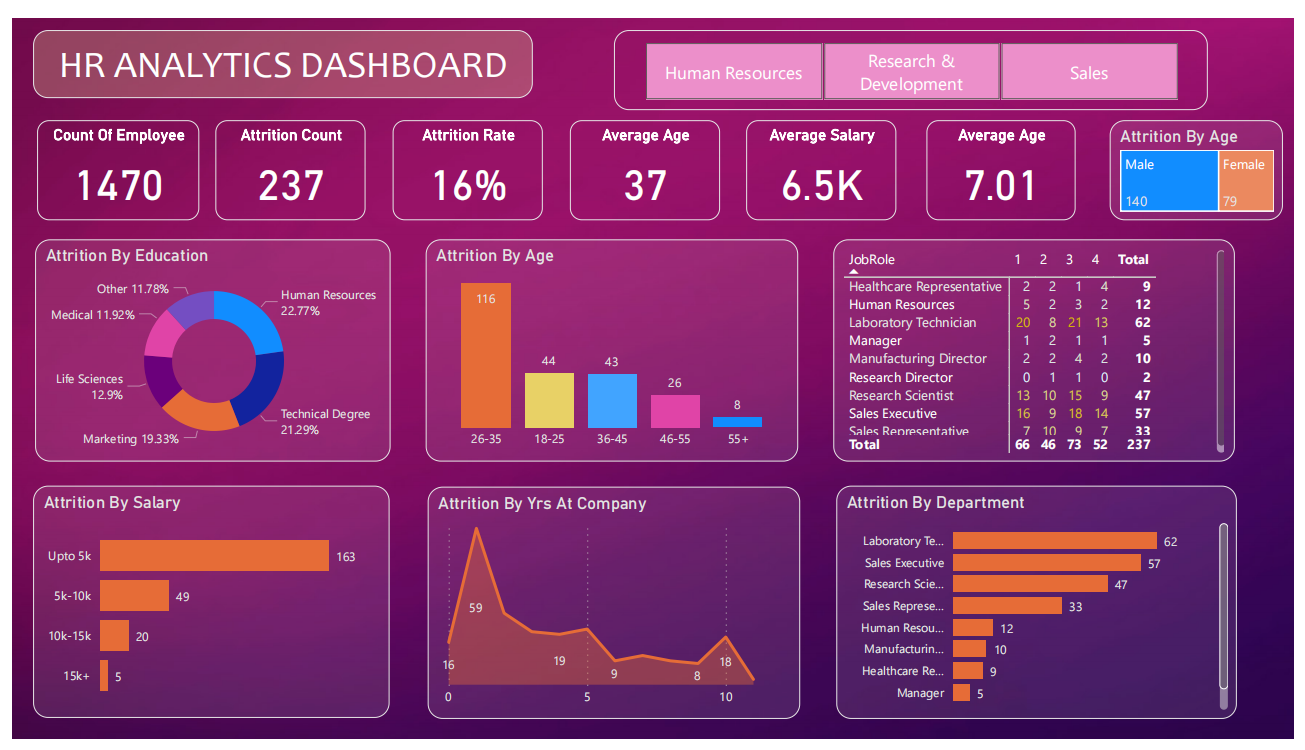

This screenshot's page, from the dashboard's own definition file:
{"tool":"powerbi","page":{"name":"HR DASHBOARD","canvas":[1280,720],"ordinal":0},"visuals":[{"type":"card","title":"Count Of Employee","fields":{"Values":["CountNonNull(HR_Analytics.EmpID)"]},"box":[25,101.5,161.9,100.2],"z":0},{"type":"card","title":"Attrition Count","fields":{"Values":["Sum(HR_Analytics.Attrition Count)"]},"box":[203.4,101.5,149.6,100.2],"z":1},{"type":"card","title":"Attrition Rate","fields":{"Values":["HR_Analytics.Attrition Rate"]},"box":[380.4,101.5,149.6,100.2],"z":2},{"type":"card","title":"Average Age","fields":{"Values":["Avg(HR_Analytics.Age)"]},"box":[557.4,101.5,149.6,100.2],"z":3},{"type":"card","title":"Average Salary","fields":{"Values":["Avg(HR_Analytics.MonthlyIncome)"]},"box":[733,101.5,149.6,100.2],"z":4},{"type":"card","title":"Average Age","fields":{"Values":["Avg(HR_Analytics.YearsAtCompany)"]},"box":[912.8,101.5,149.6,100.2],"z":5},{"type":"donutChart","title":"Attrition By Education","fields":{"Y":["HR_Analytics.Attrition Rate"],"Category":["HR_Analytics.EducationField"]},"box":[23.1,220.9,355.4,222.3],"z":6},{"type":"columnChart","title":"Attrition By Age","fields":{"Category":["HR_Analytics.AgeGroup"],"Y":["Sum(HR_Analytics.Attrition Count)"]},"box":[412.8,220.9,371.9,222.3],"z":7},{"type":"pivotTable","fields":{"Rows":["HR_Analytics.JobRole"],"Columns":["HR_Analytics.JobSatisfaction"],"Values":["Sum(HR_Analytics.Attrition Count)"]},"box":[820.3,220.9,400.7,222.3],"z":8},{"type":"barChart","title":"Attrition By Salary","fields":{"Category":["HR_Analytics.SalarySlab"],"Y":["Sum(HR_Analytics.Attrition Count)"]},"box":[21.1,466.8,355.4,231.9],"z":9},{"type":"barChart","title":"Attrition By Department","fields":{"Y":["Sum(HR_Analytics.Attrition Count)"],"Category":["HR_Analytics.JobRole"]},"box":[822.5,466.8,400.7,233.3],"z":10},{"type":"treemap","title":"Attrition By Age","fields":{"Group":["HR_Analytics.Gender"],"Values":["Sum(HR_Analytics.Attrition Count)"]},"box":[1096.4,101.5,172.9,100.2],"z":11},{"type":"stackedAreaChart","title":"Attrition By Yrs At Company","fields":{"Y":["Sum(HR_Analytics.Attrition Count)"],"Category":["HR_Analytics.YearsAtCompany"]},"box":[415,468.2,371.9,231.9],"z":12},{"type":"textbox","box":[20.6,12.3,499.5,67.2],"z":13},{"type":"slicer","fields":{"Values":["HR_Analytics.Department"]},"box":[601,12.3,592.8,79.6],"z":14}]}

Visuals, with their boxes in screenshot pixels (x1, y1, x2, y2), scaled from the page's 1280x720 canvas onto the 1305x750 screenshot:
"Count Of Employee" card: 25 106 191 210
"Attrition Count" card: 207 106 360 210
"Attrition Rate" card: 388 106 540 210
"Average Age" card: 568 106 721 210
"Average Salary" card: 747 106 900 210
"Average Age" card: 931 106 1083 210
"Attrition By Education" donutChart: 24 230 386 462
"Attrition By Age" columnChart: 421 230 800 462
pivotTable - HR_Analytics.JobRole x HR_Analytics.JobSatisfaction: 836 230 1245 462
"Attrition By Salary" barChart: 22 486 384 728
"Attrition By Department" barChart: 839 486 1247 729
"Attrition By Age" treemap: 1118 106 1294 210
"Attrition By Yrs At Company" stackedAreaChart: 423 488 802 729
textbox: 21 13 530 83
slicer - HR_Analytics.Department: 613 13 1217 96
